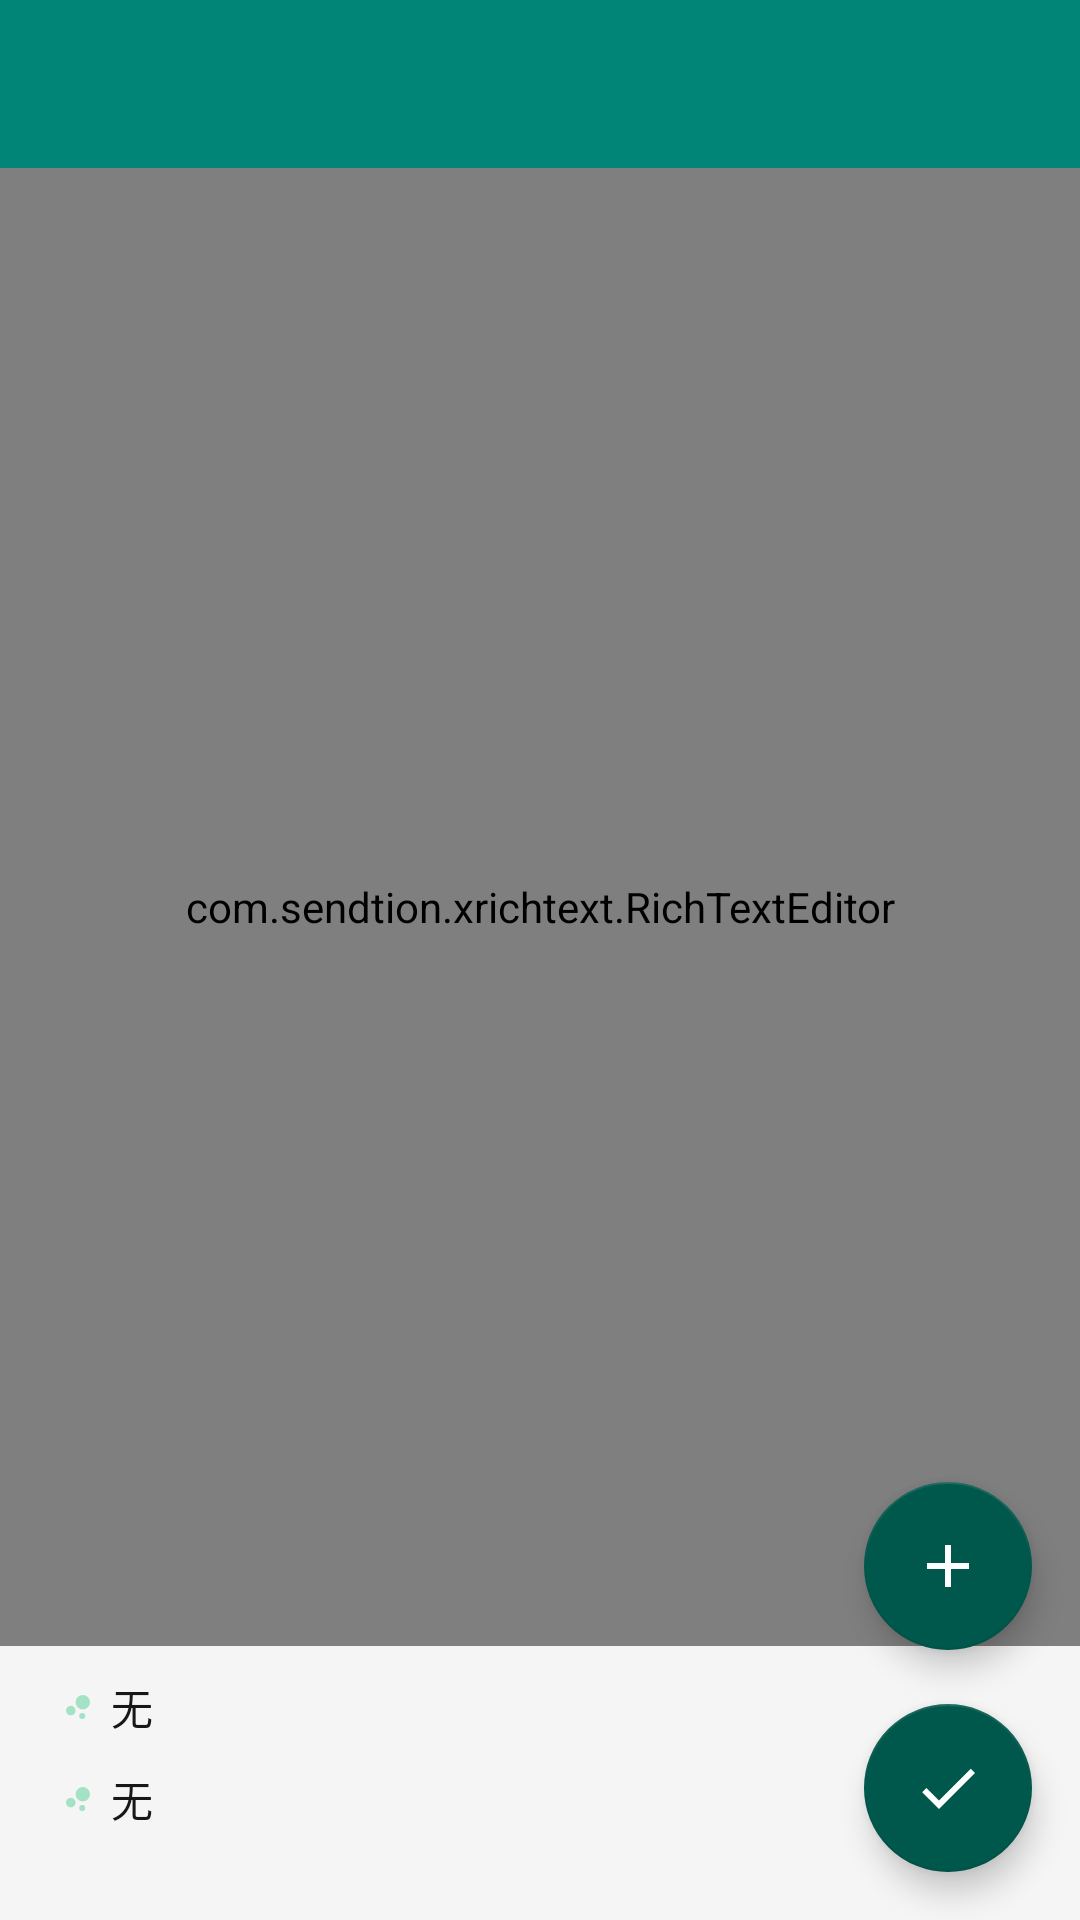

Icon click points for this 1080*1920 phone screenshot, format point (x, y):
add: point (948, 1566)
bubble chart: point (78, 1707), point (78, 1799)
done: point (948, 1788)
